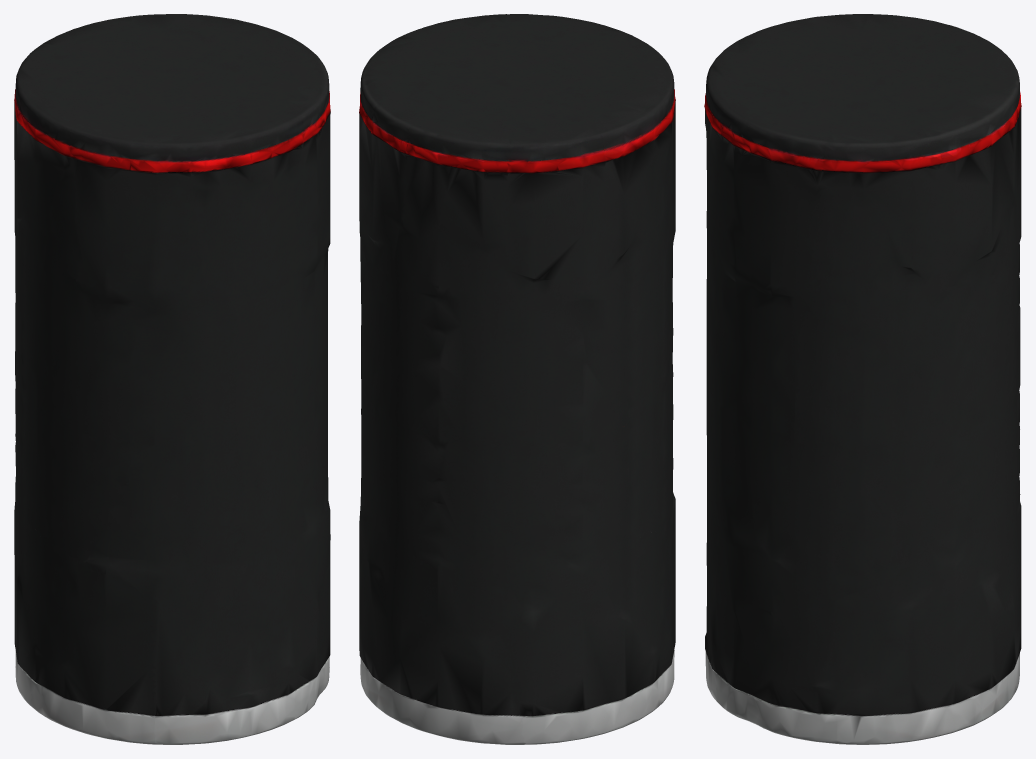
The model's file is battery.glb.
The picture shows the model from 3 angles, left to right: view 1: azimuth 30°, elevation 25°; view 2: azimuth 150°, elevation 25°; view 3: azimuth 270°, elevation 25°; orthographic projection.
Parts seen in each view (by area): view 1: mesh_node; view 2: mesh_node; view 3: mesh_node.
Part boxes in pixels (x1,y1,x2,y2): mesh_node: (14, 14, 330, 744); mesh_node: (359, 14, 675, 744); mesh_node: (704, 14, 1021, 744).
Size of the model in its own units: 0.9088 by 1.9 by 0.9087.
1 material, 1 textured.
